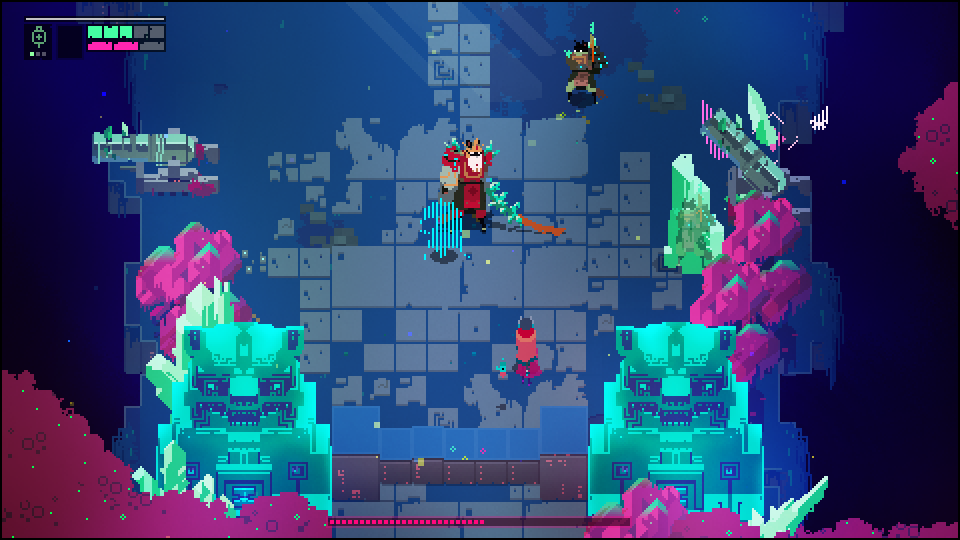hanged_man: (432, 131, 536, 244)
player: (510, 311, 544, 379)
